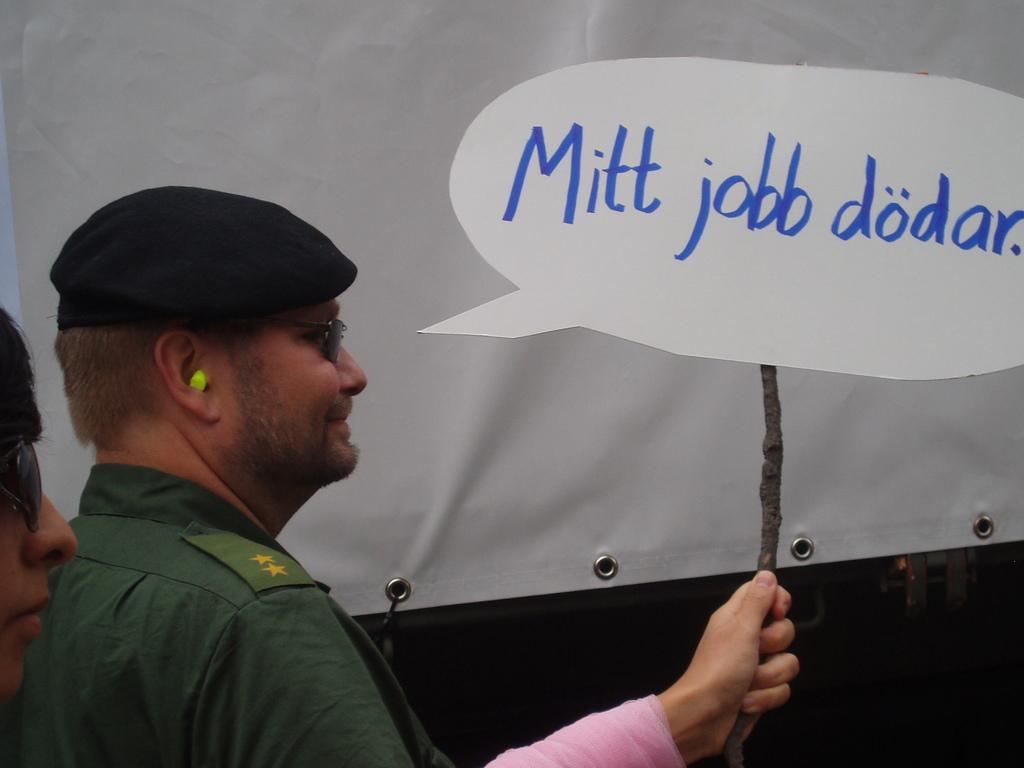Hat: (48, 187, 357, 332)
